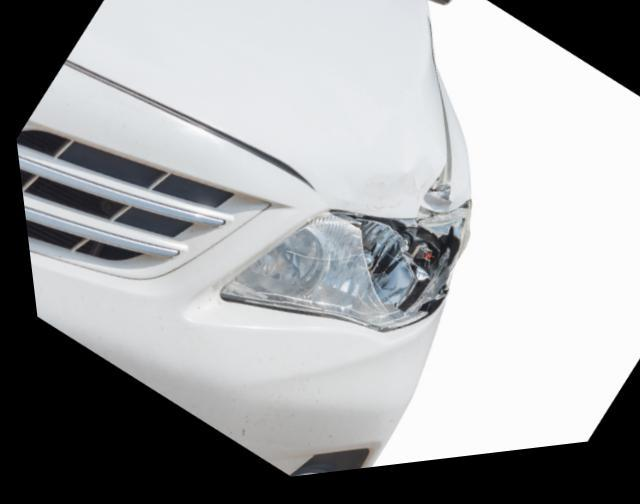lamp broken: (212, 215, 462, 340)
